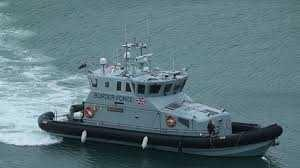kayak: (38, 19, 284, 156)
